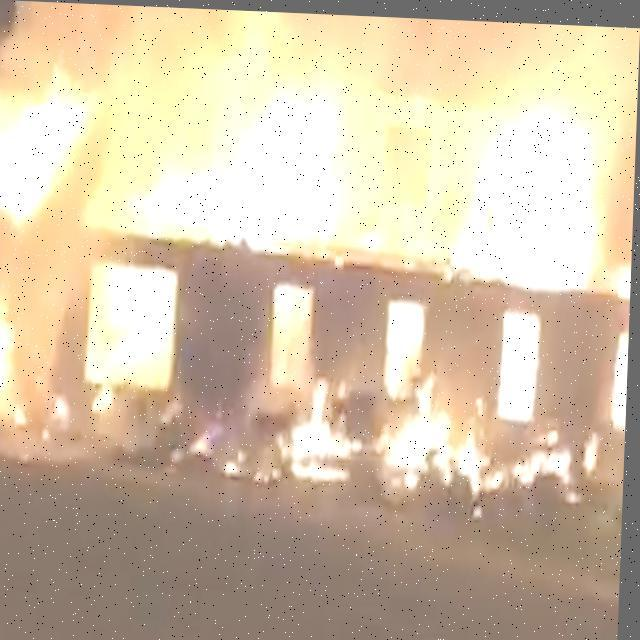Fire: (0, 1, 640, 493)
